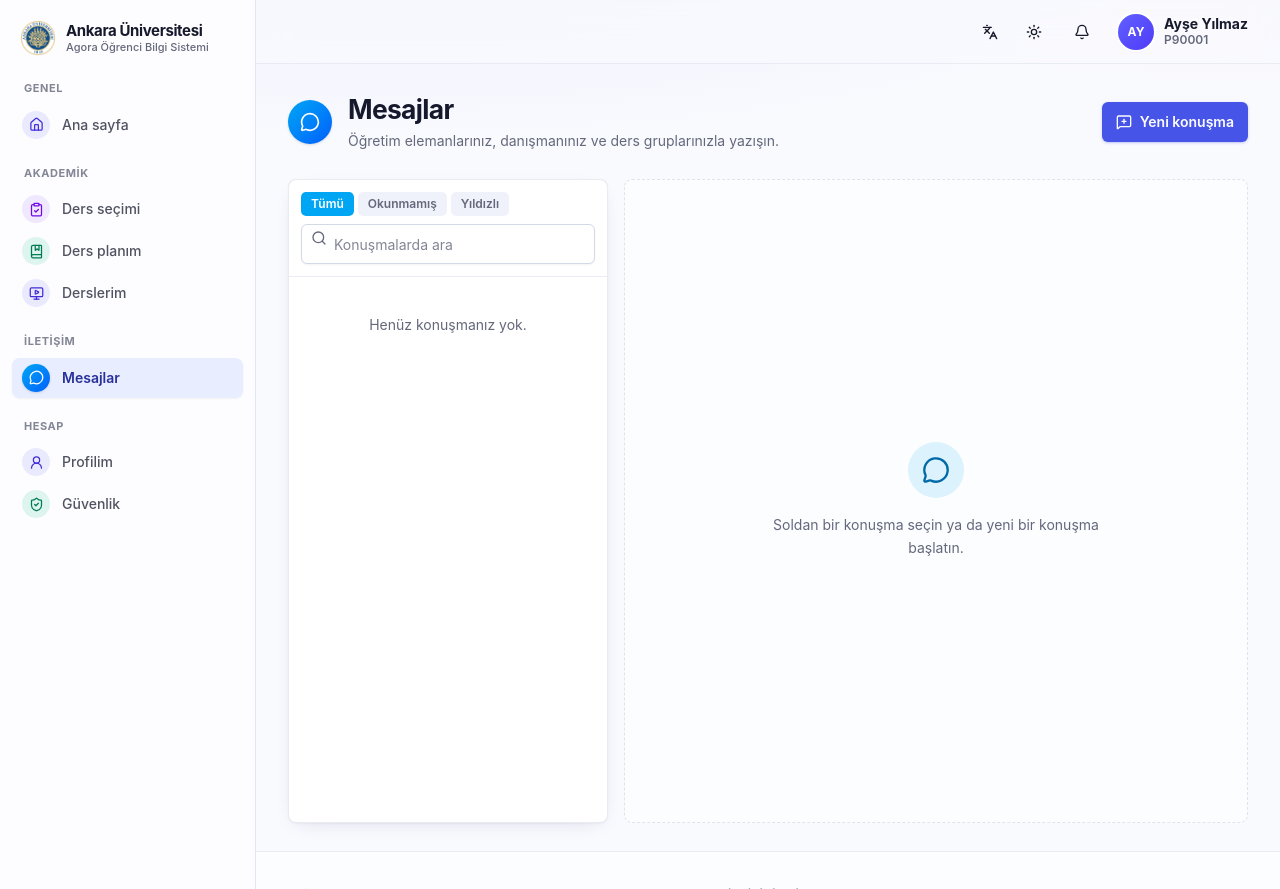
Scenario: mesajlar › öğrenci yeni konuşmada kişilerinden birini seçer ve konuşma açılır
The width and height of the screenshot is (1280, 889).
Expected: the text "Henüz konuşmanız yok." is shown, [369, 316, 527, 333]
Step 1. Click the button "Yeni konuşma" → (1175, 122), box [1102, 102, 1248, 142]
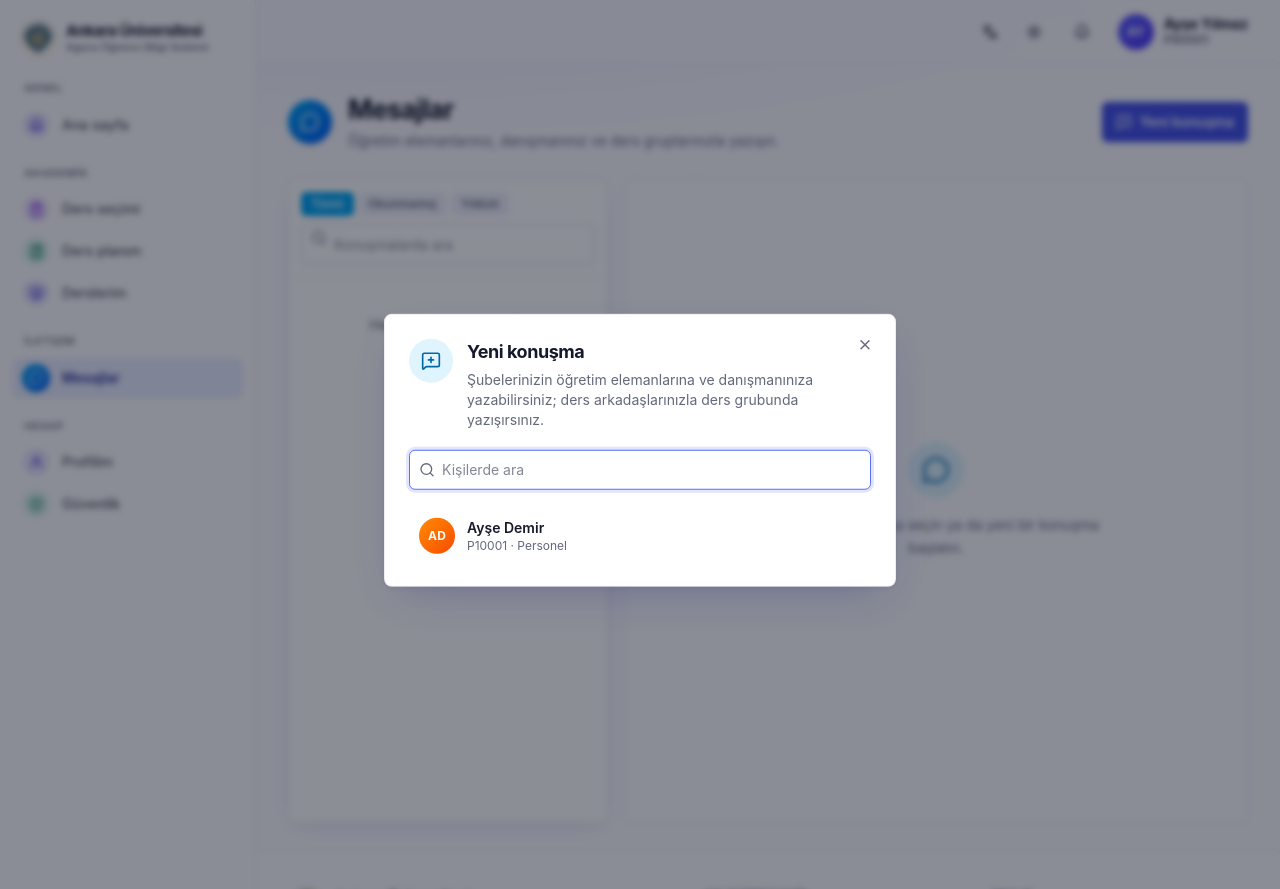
Step 2. Click the button "AD Ayşe Demir P10001 · Personel" → (437, 535), box [409, 509, 871, 561]
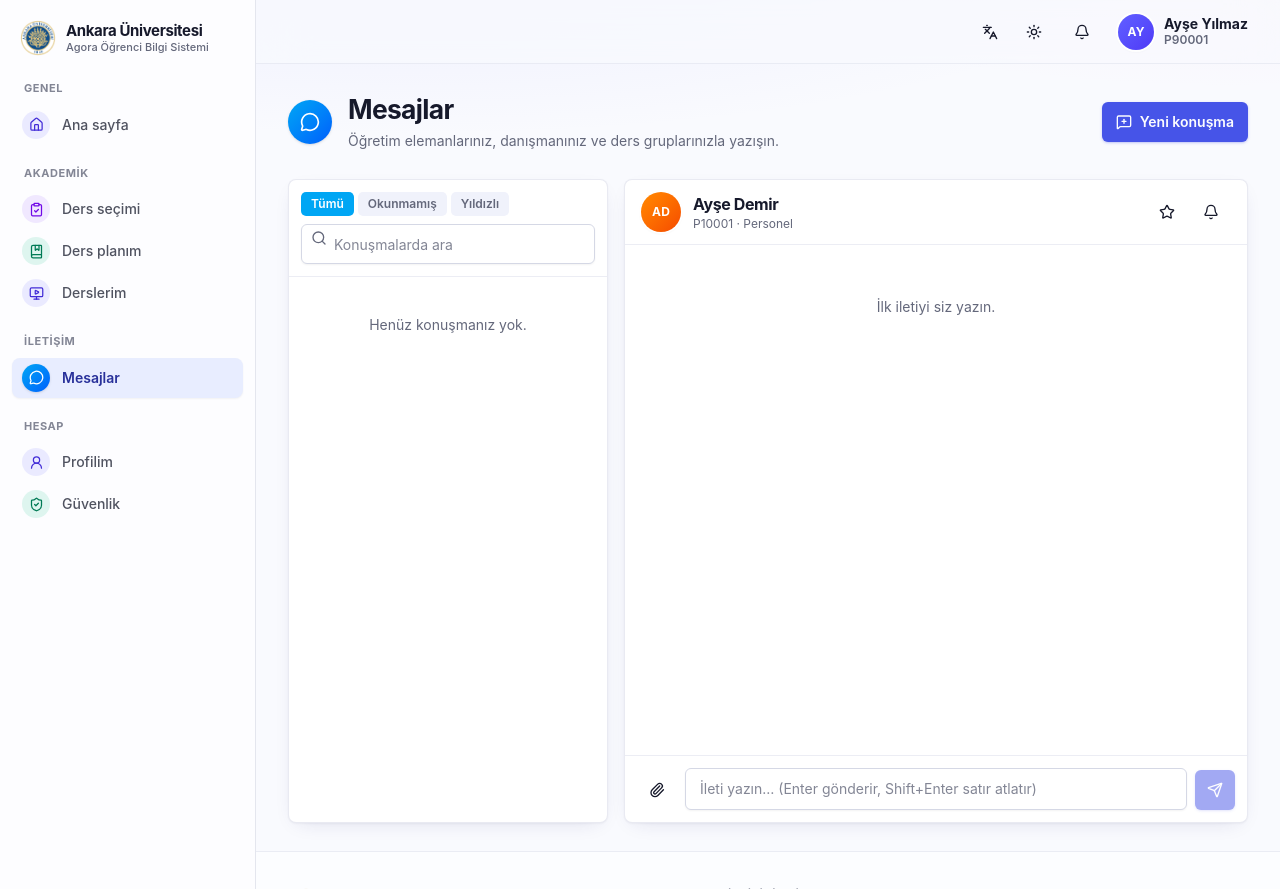
Result: the list item "İlk iletiyi siz yazın." is shown at [877, 298, 995, 315]
